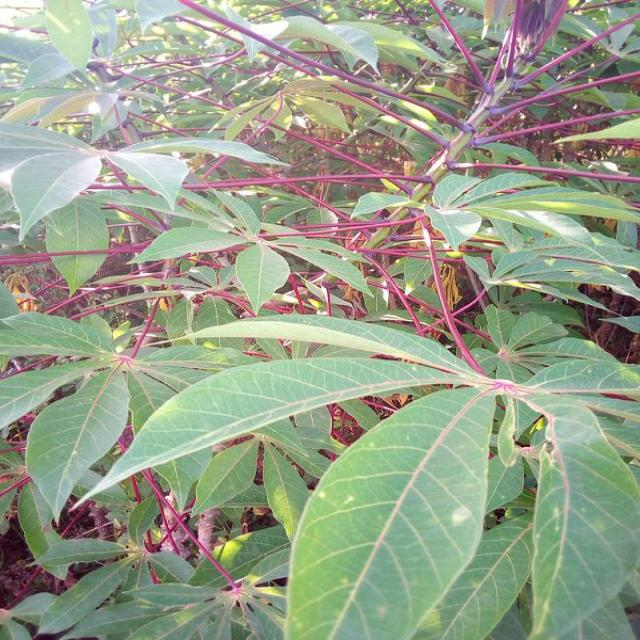cassava leaf: (1, 0, 638, 638), (283, 384, 497, 638), (528, 396, 638, 638)
